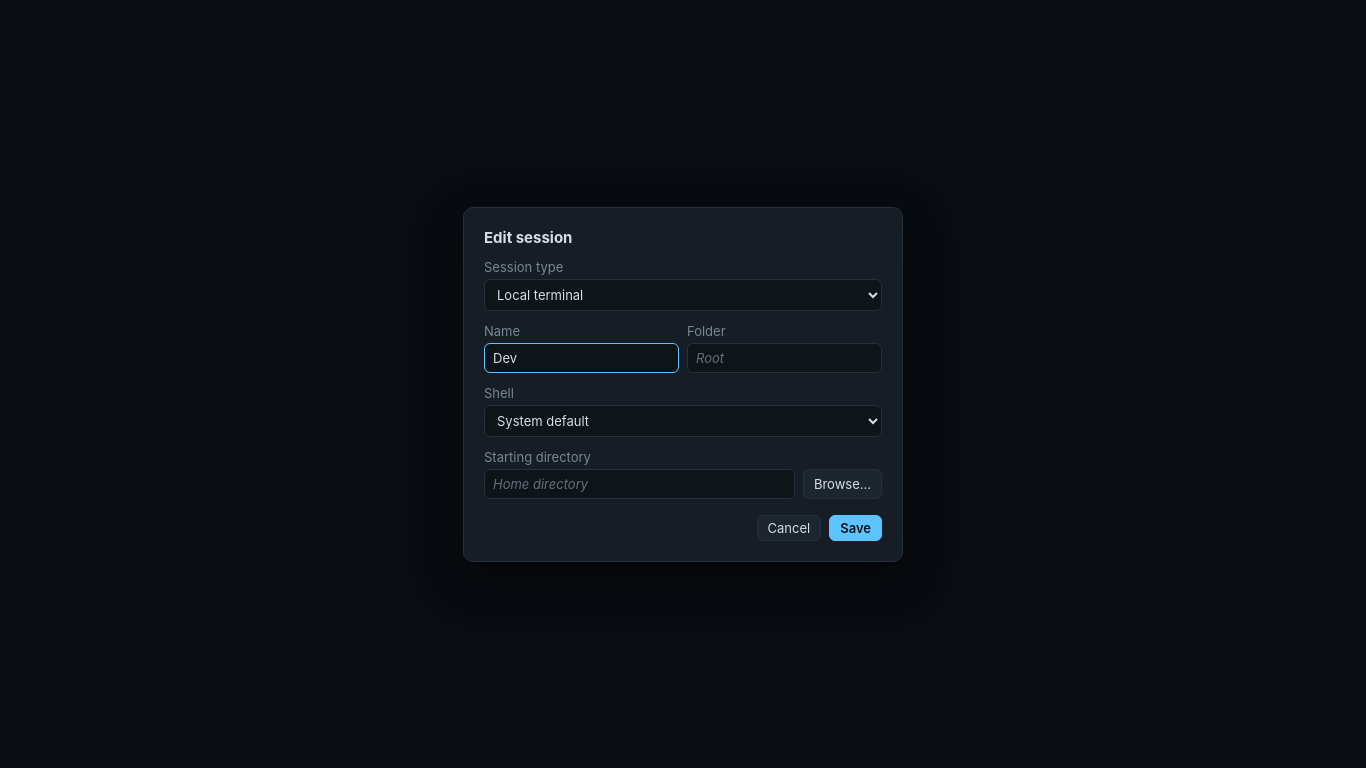
Scenario: SessionEditDialog local terminal (local shells S4) › chooses the starting directory with Browse…
Check: the dropdown labelled "Session type" shows "Local terminal", box 484,278 -> 882,310
Click the button "Browse…" at (842, 484), box 803,468 -> 882,498
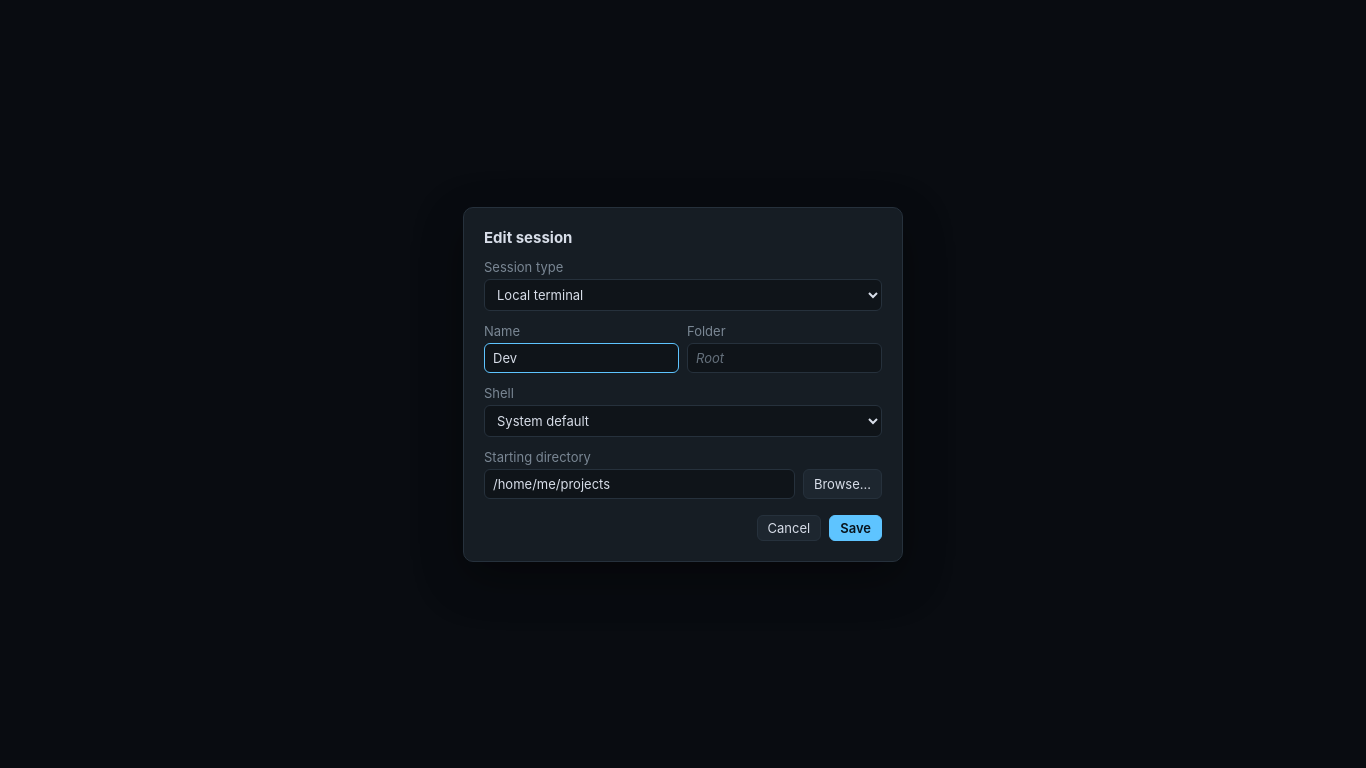
Check: the field labelled "Starting directory" holds "/home/me/projects", box 484,468 -> 795,498
